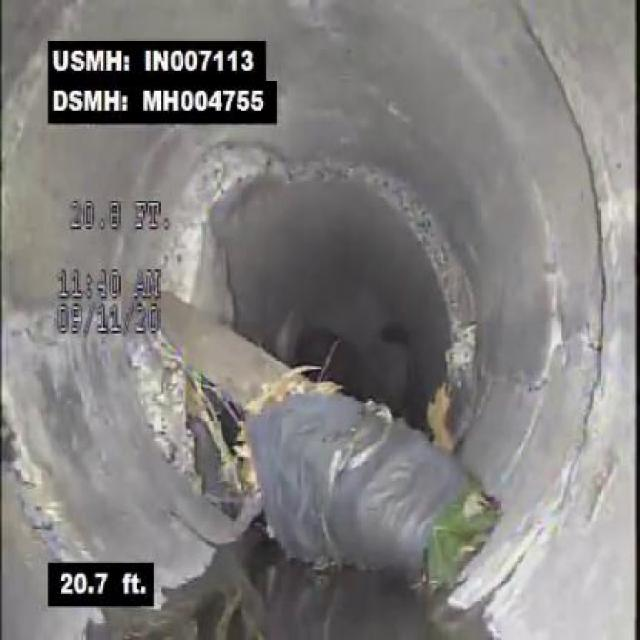Obstacle: (166, 272, 494, 594)
